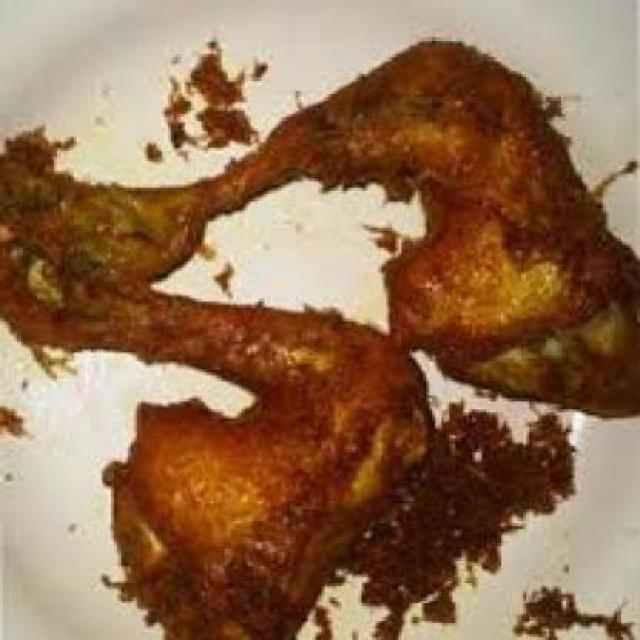Wet Waste: (0, 32, 637, 425), (0, 239, 432, 635)
